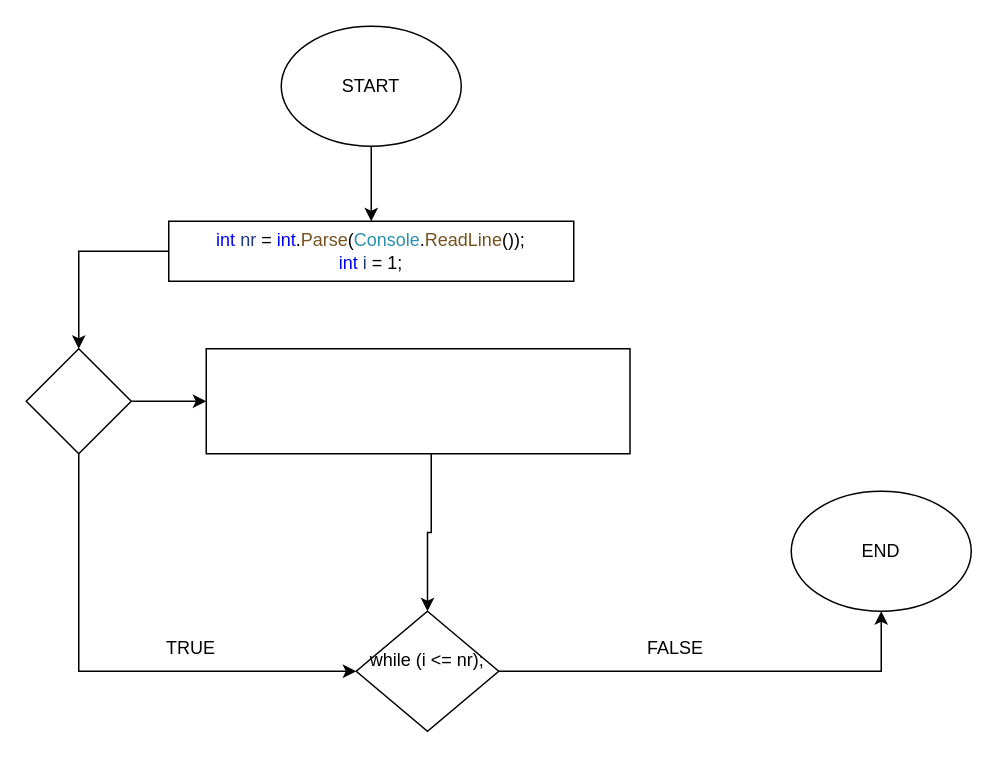
Image size: 998x758. Some labels were removed from this diagram. Each missing label, with the centre of its shape:
"Console . WriteLine ( nr ); i ++;" goes at (x=417, y=400).
"do" goes at (x=78, y=400).
